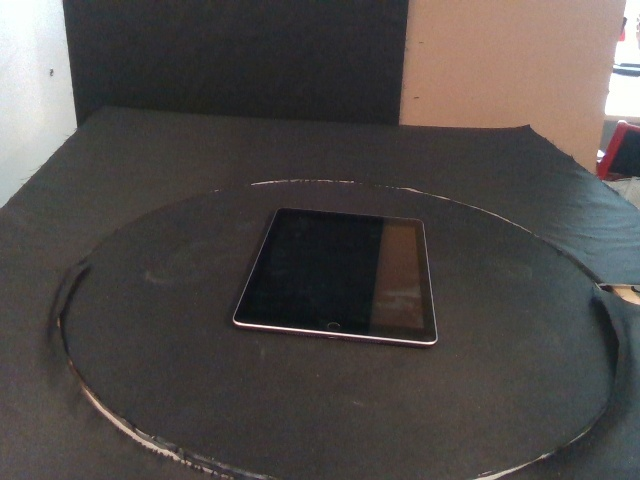laptop: (230, 206, 440, 350)
